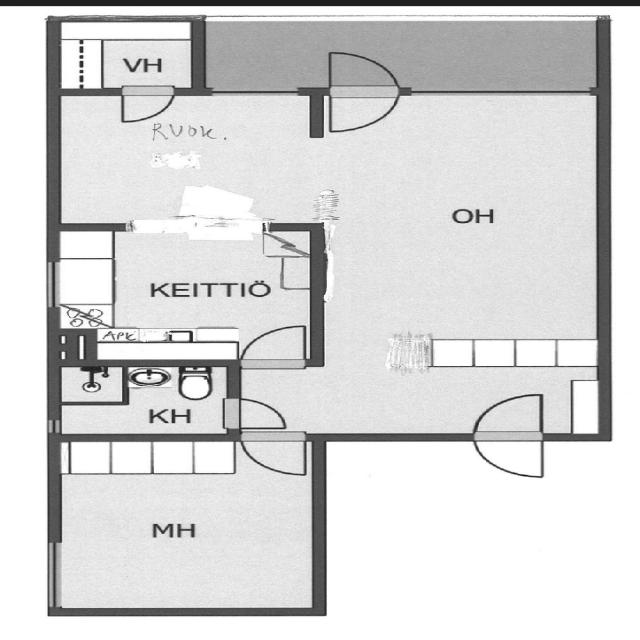door: (469, 391, 552, 482), (321, 47, 401, 137), (232, 320, 317, 371), (116, 85, 176, 125)
window: (399, 84, 586, 100), (40, 540, 69, 609), (39, 257, 65, 313), (210, 85, 304, 98), (40, 413, 68, 439)
zone: (320, 92, 610, 372), (48, 438, 320, 612), (50, 225, 318, 364), (53, 92, 310, 222), (52, 361, 238, 437), (52, 20, 197, 91), (234, 320, 315, 373), (237, 432, 315, 478), (214, 394, 296, 432)
